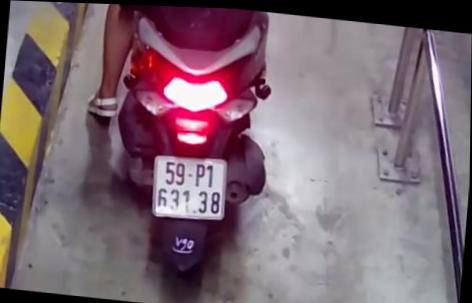LP: (148, 149, 229, 223)
